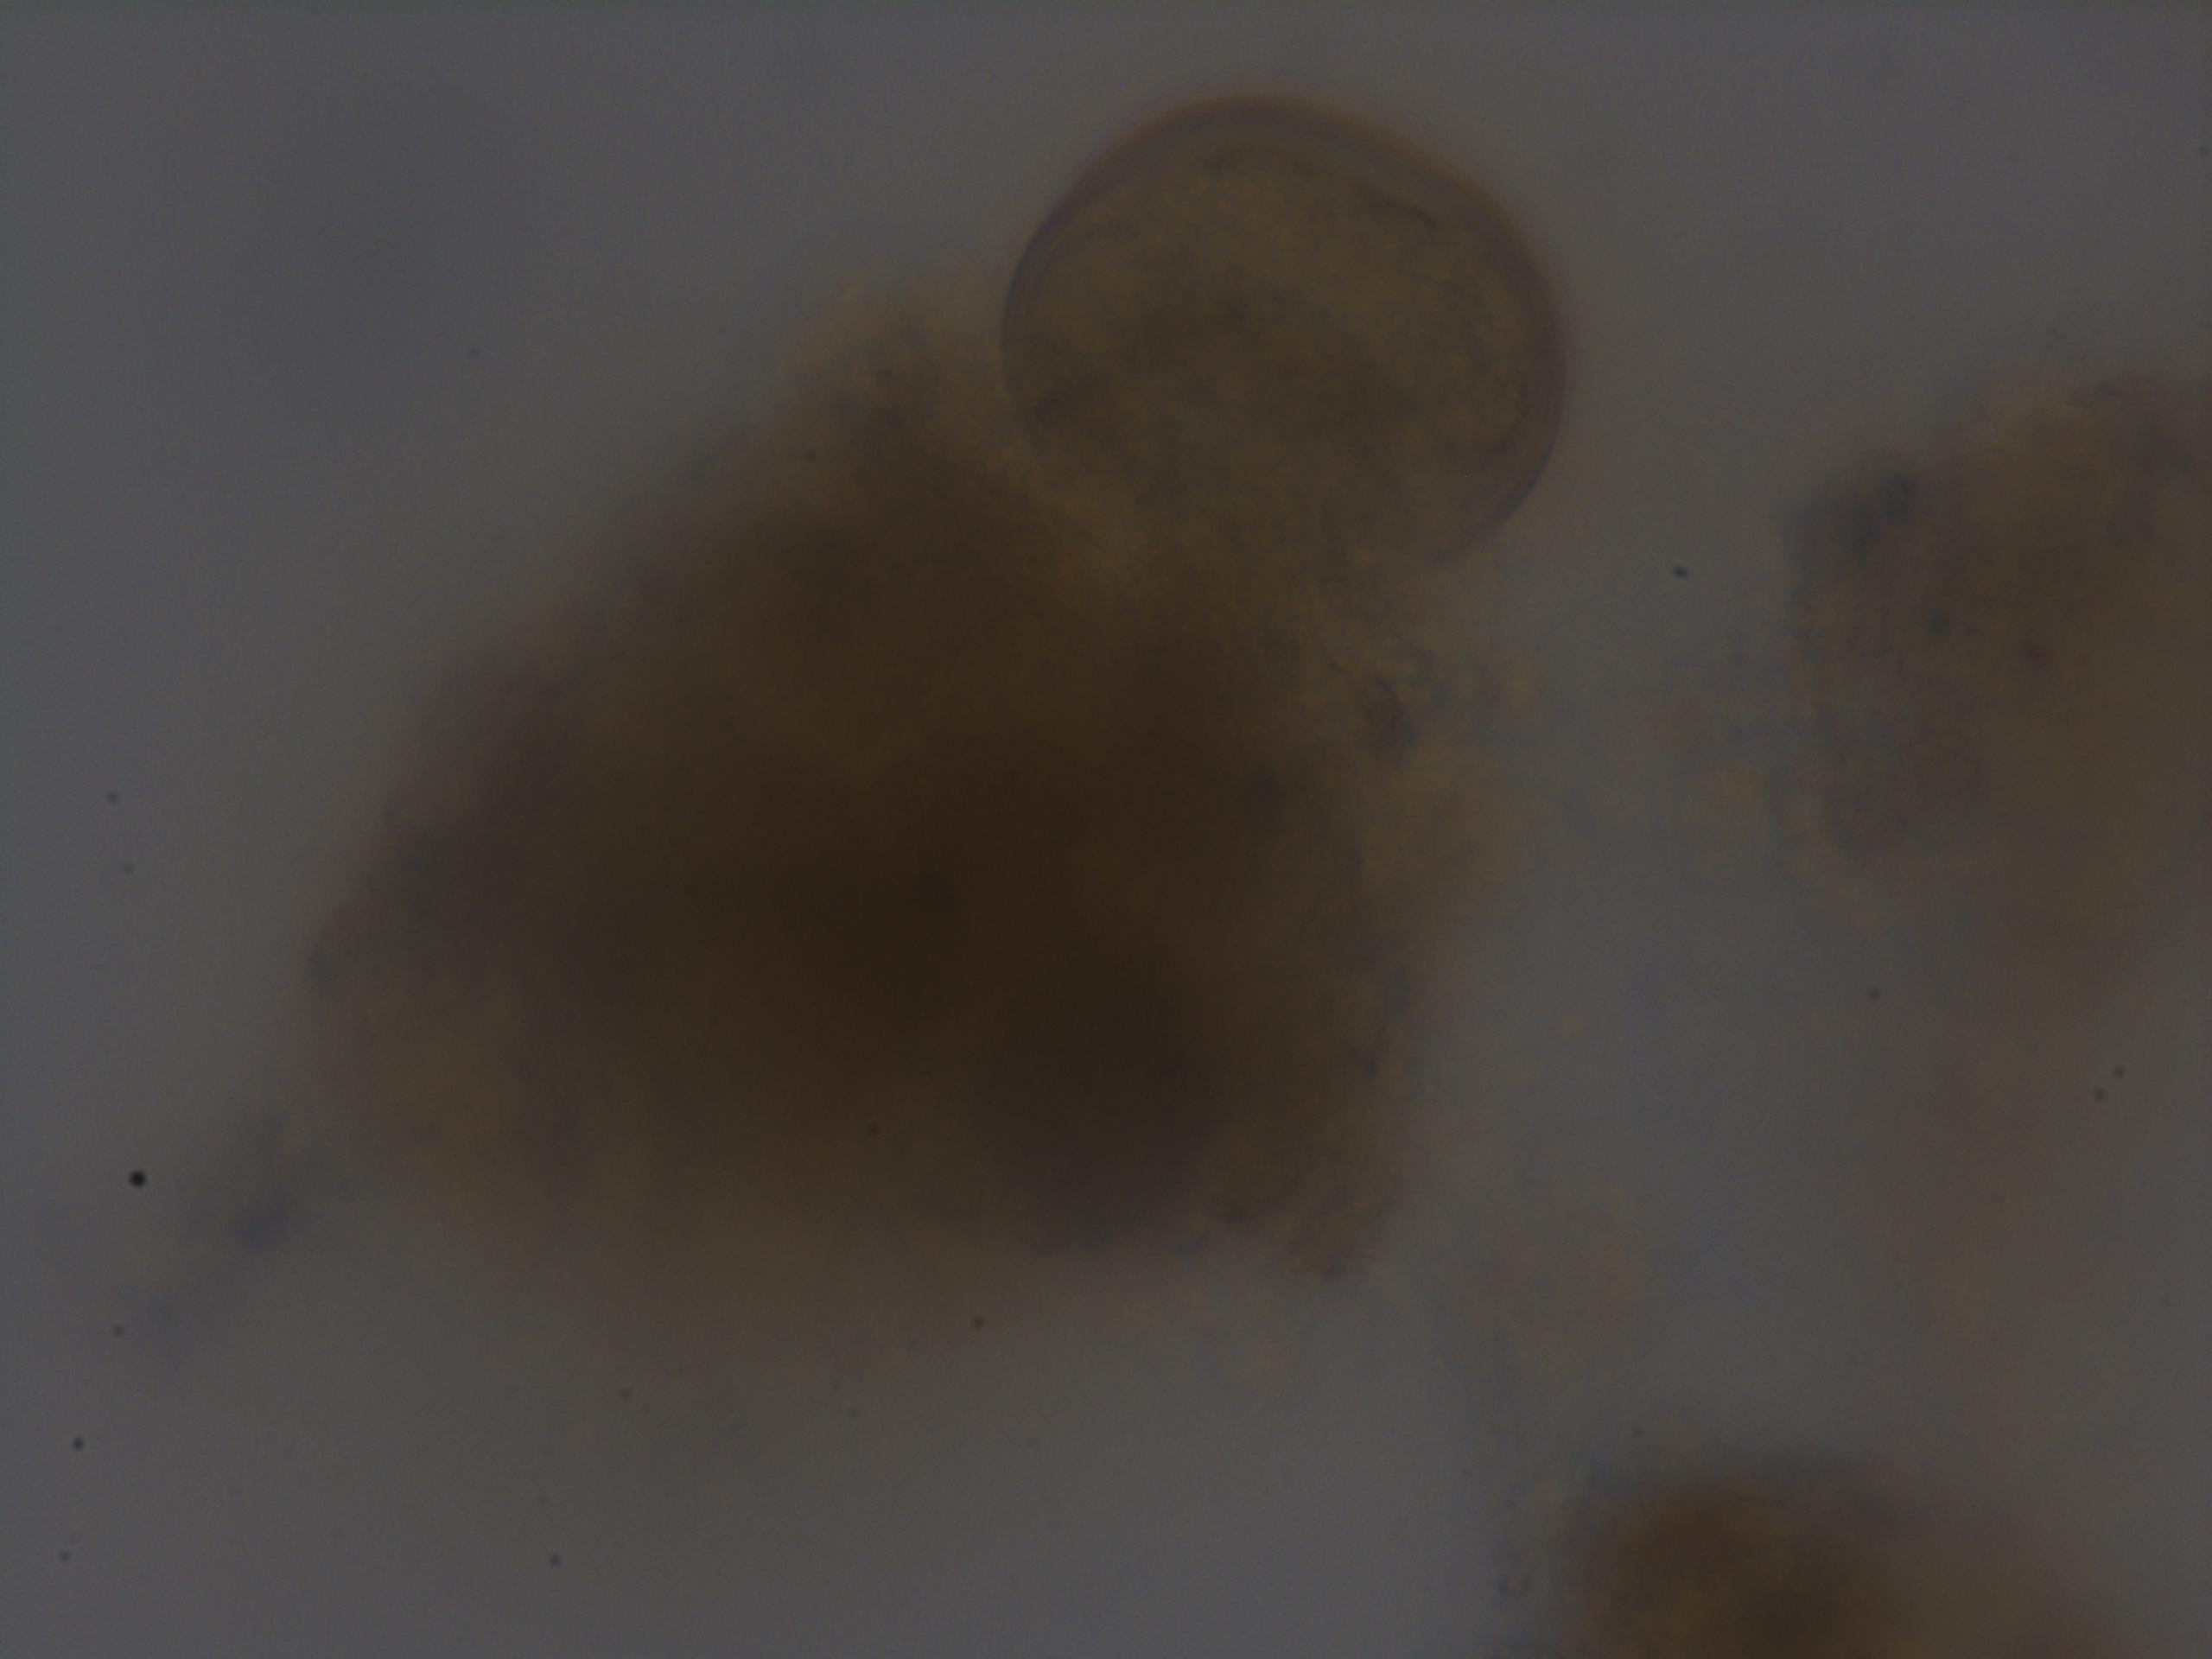protozoa: (991, 92, 1573, 568)
spherical_floc: (298, 307, 1486, 1305)
